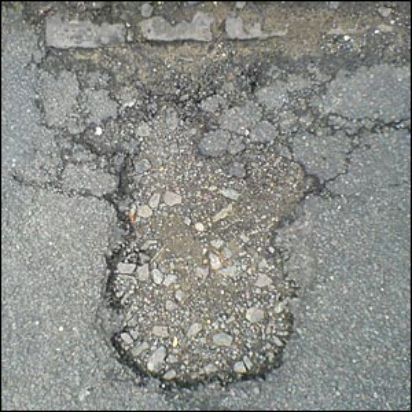pothole: (73, 91, 335, 393)
